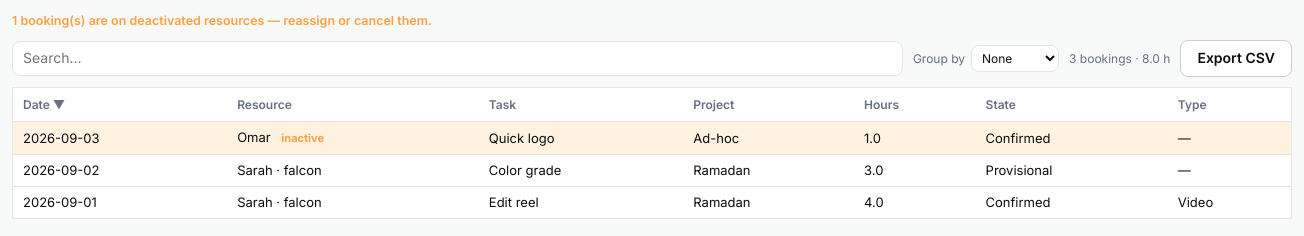
BookingsTable (L3.1/L3.4) › groups by project with group rows (Ramadan + Ad-hoc)
Select "Project" in the dropdown with test id "bookings-group" at {"x": 1015, "y": 58}, box 971,45 -> 1059,72
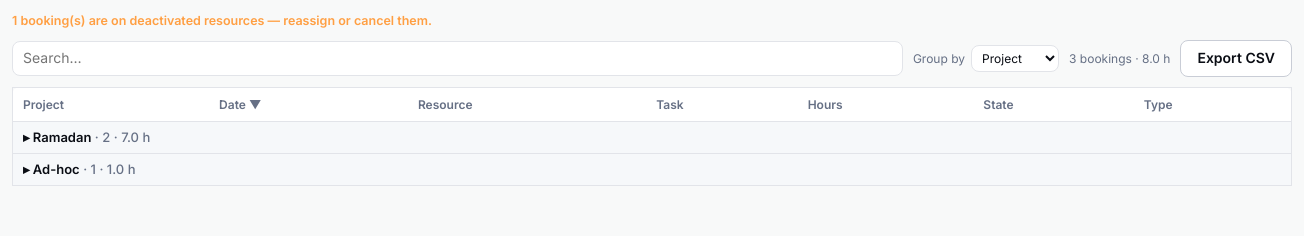
Result: the number of rows with test id "group-project" is 2 at 12,122 -> 1292,154; 12,154 -> 1292,186
